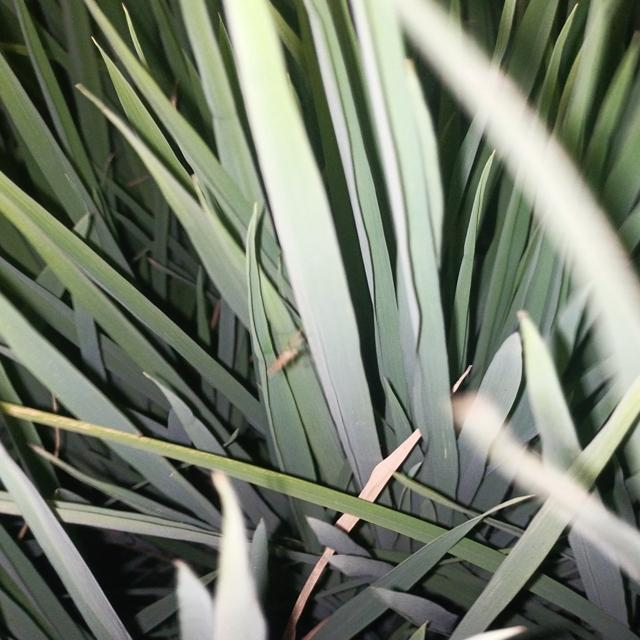green leaf hopper: (247, 313, 326, 388)
